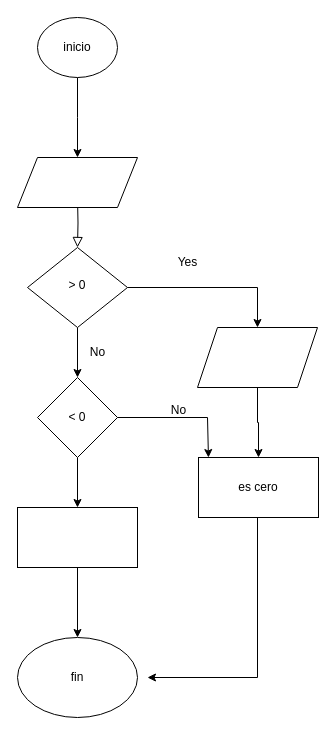
Image size: 336x735. Some labels were removed from this diagram. The shapes that lost their labels are listed below. From the top down, each one's box as (x1, y1, x2, y2) in pixels, then its label:
(16, 156, 138, 208): ingresar numero
(196, 326, 318, 388): es positivo
(16, 506, 138, 568): es negativo
